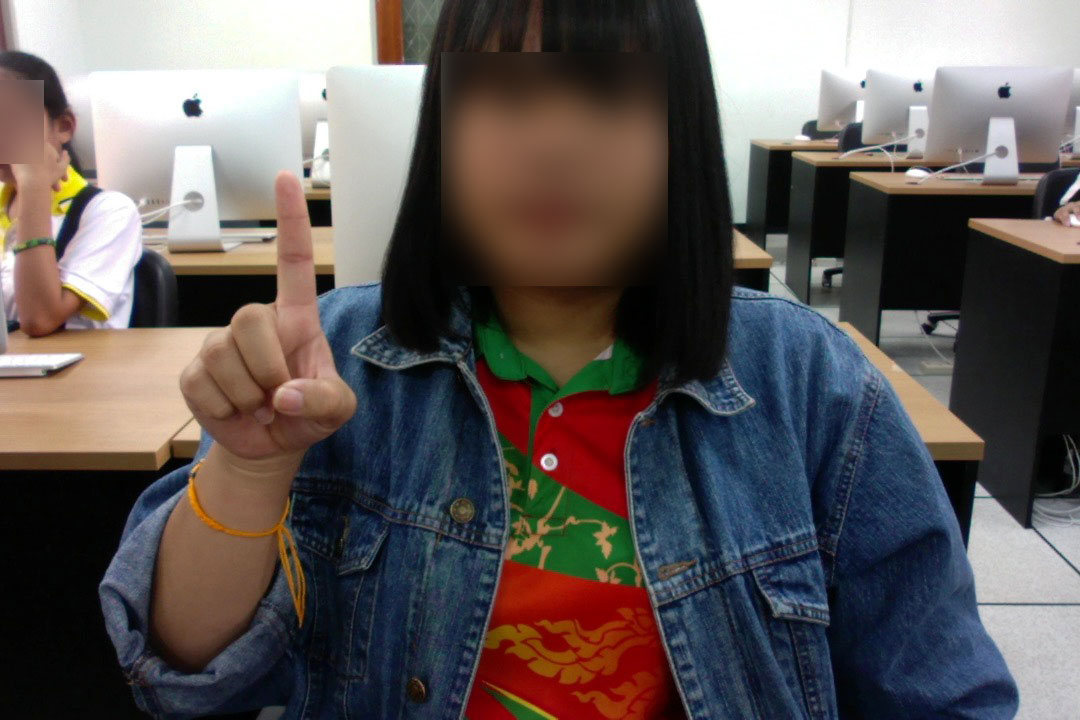dor: (178, 164, 359, 468)
